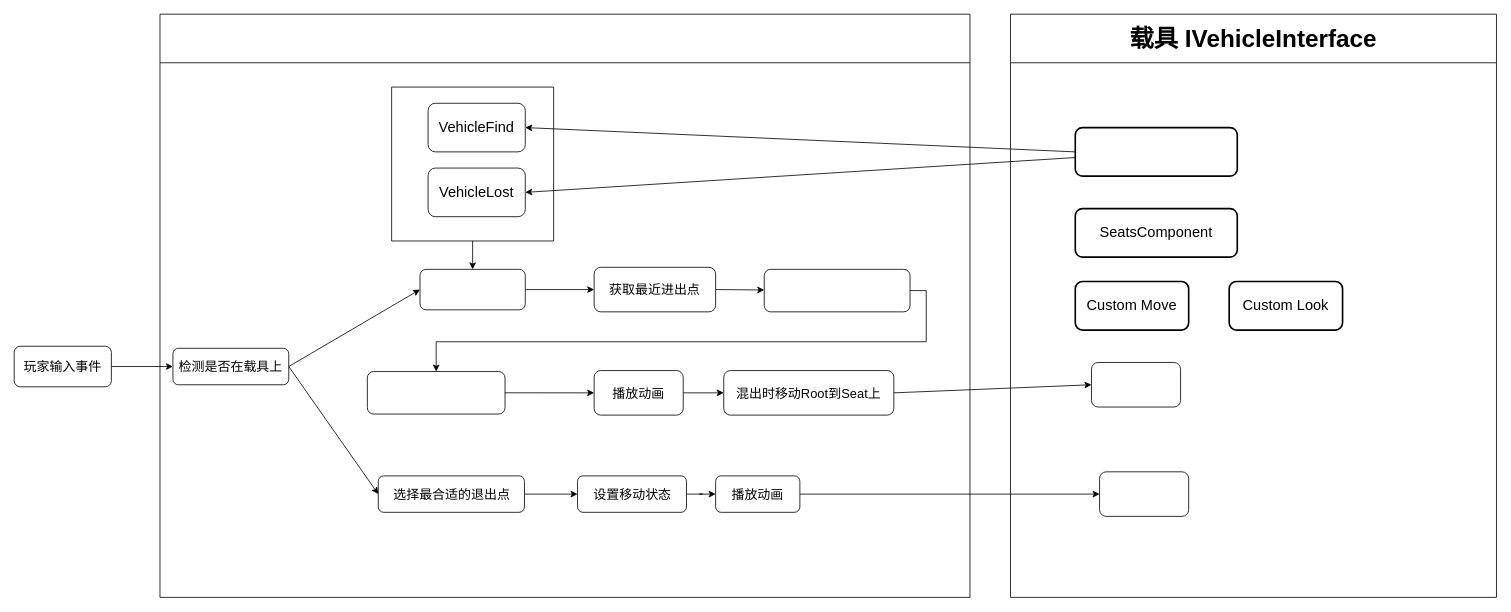
Some shapes in this 1511 by 612 pixel diagram are drawn without their labels. The box of each missing label's shape, as (x1, y1, x2, y2) in pixels:
EnterLeaveCollision: (1074, 126, 1238, 177)
SimpleMoveToLocation: (763, 269, 910, 312)
TryEnter: (1091, 362, 1181, 407)
TryLeave: (1099, 471, 1189, 516)
获取ValidVehicle中最合适的: (419, 269, 525, 310)
设置移动状态和碰撞: (367, 371, 505, 414)
骑乘用户 IVehicleUserInterface: (159, 13, 970, 597)
